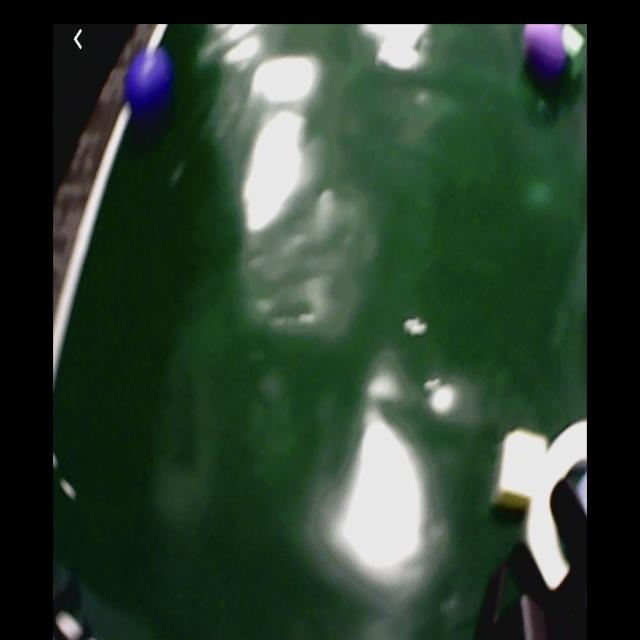ball: (125, 46, 170, 115), (523, 24, 568, 73)
